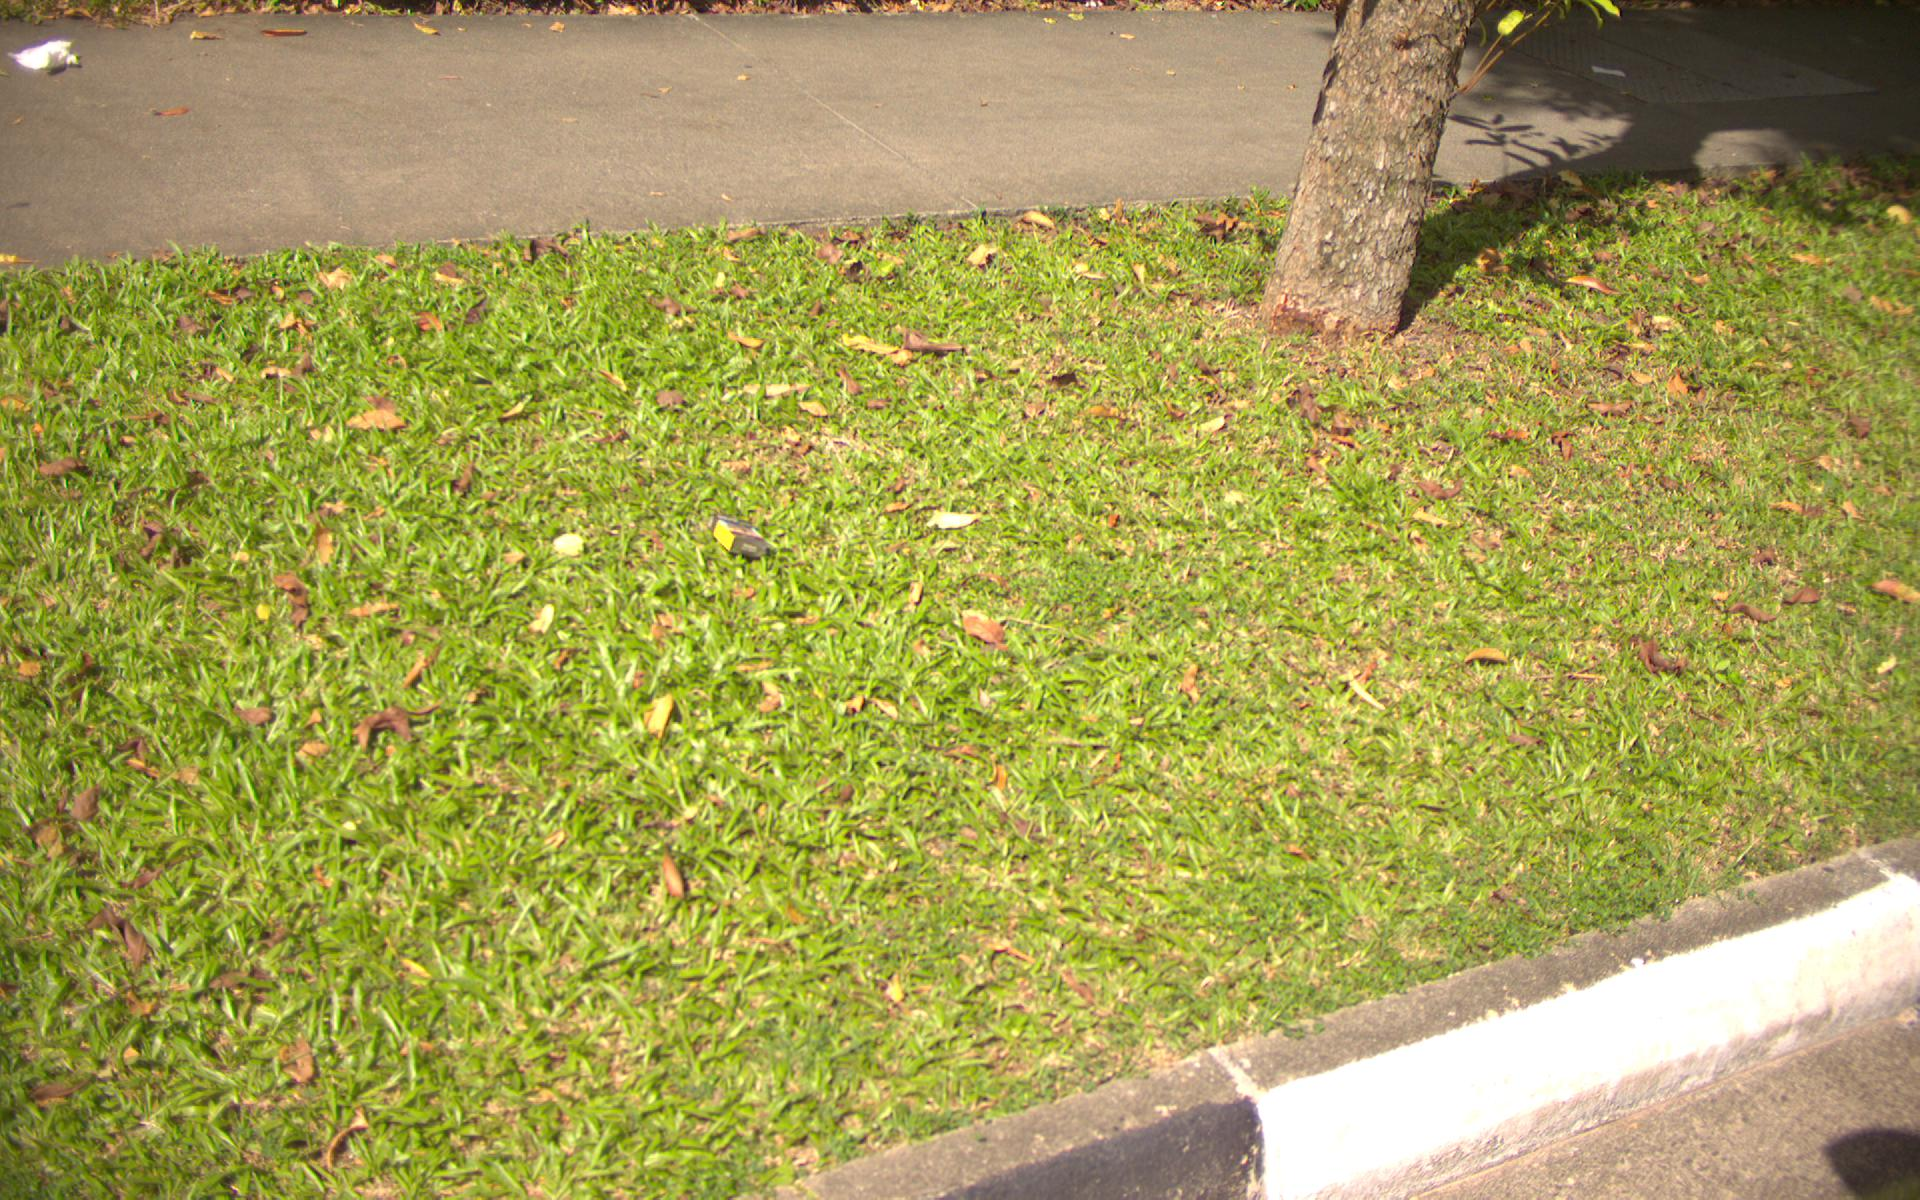pathway_low: (4, 24, 1268, 189)
road_turf_low: (1, 264, 1920, 827)
